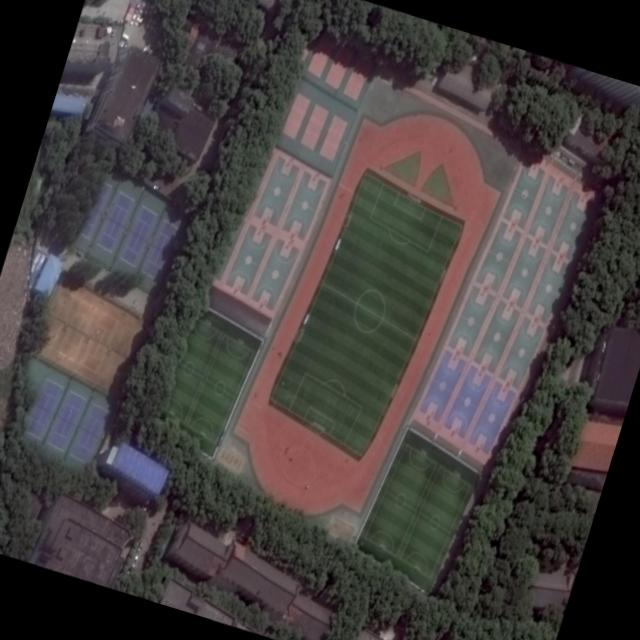small-vehicle: (129, 12, 136, 26), (139, 1, 145, 14), (134, 0, 140, 13), (134, 14, 140, 26)
